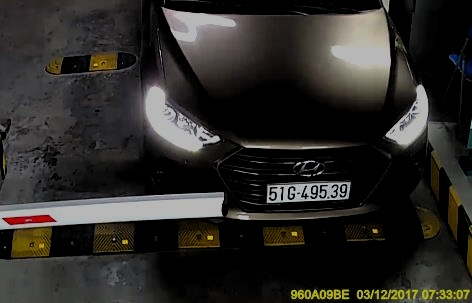plate: (264, 178, 350, 203)
